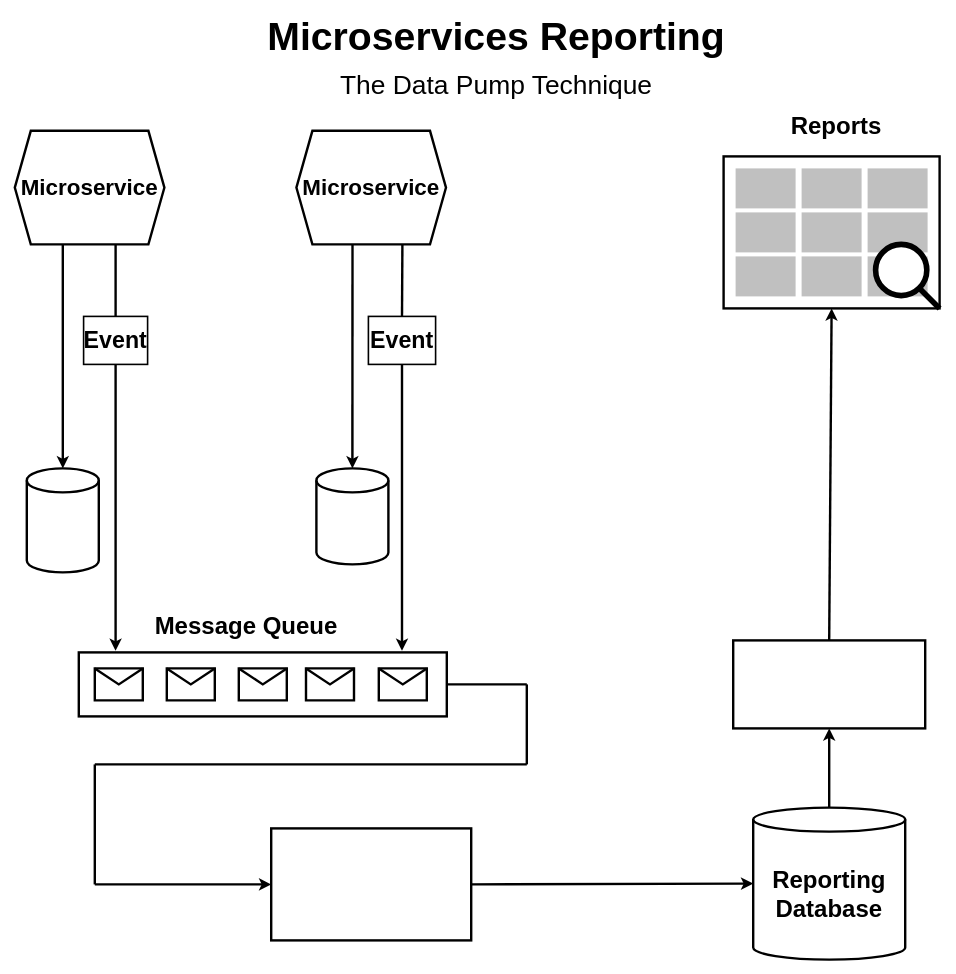
Some shapes in this 956 by 974 pixel diagram are drawn without their labels. Each missing label, with the centre of its shape:
"Data Capture" belongs at point 371,884.
"Reporting Service" belongs at point 829,684.
